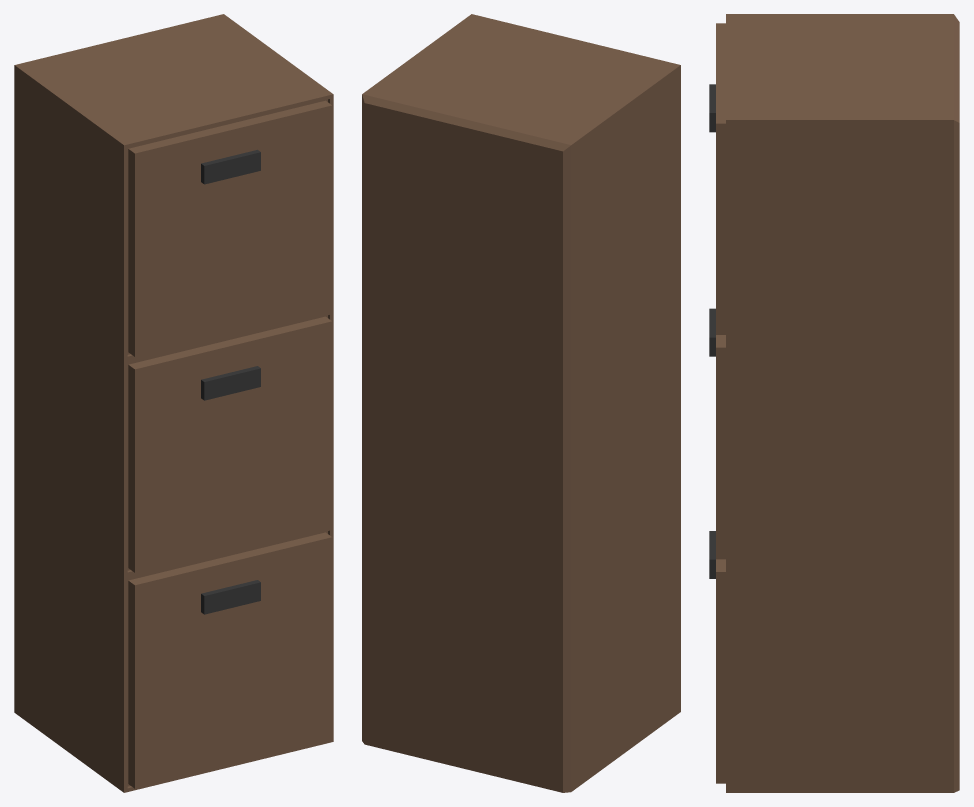
File: Dresser.fbx
3 renders of one model, left to right at view 1: azimuth 30°, elevation 25°; view 2: azimuth 150°, elevation 25°; view 3: azimuth 270°, elevation 25°, orthographic. The views are drawn at different scales.
Visible parts, largest first — view 1: Dresser; view 2: Dresser; view 3: Dresser.
Part boxes in pixels (bbox=[...]): Dresser: bbox=[14, 14, 333, 792]; Dresser: bbox=[362, 14, 680, 792]; Dresser: bbox=[709, 14, 959, 792].
Size of the model in its own units: 162 by 480 by 162.
